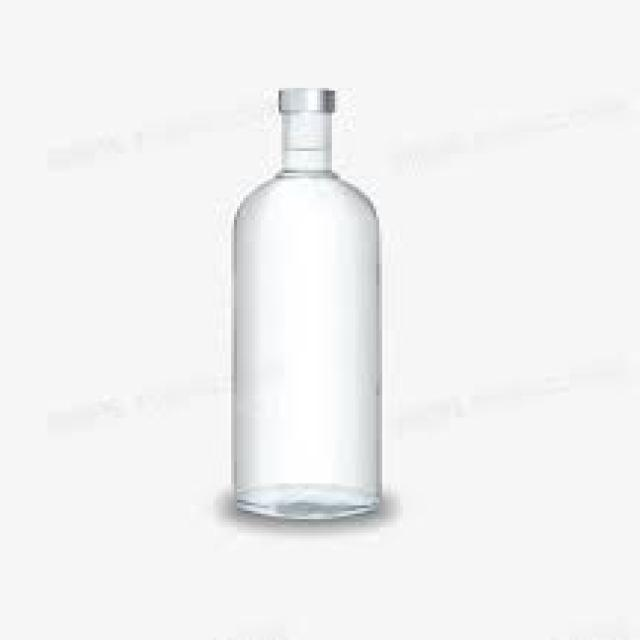glass: (228, 107, 379, 519)
metal: (275, 88, 329, 113)
